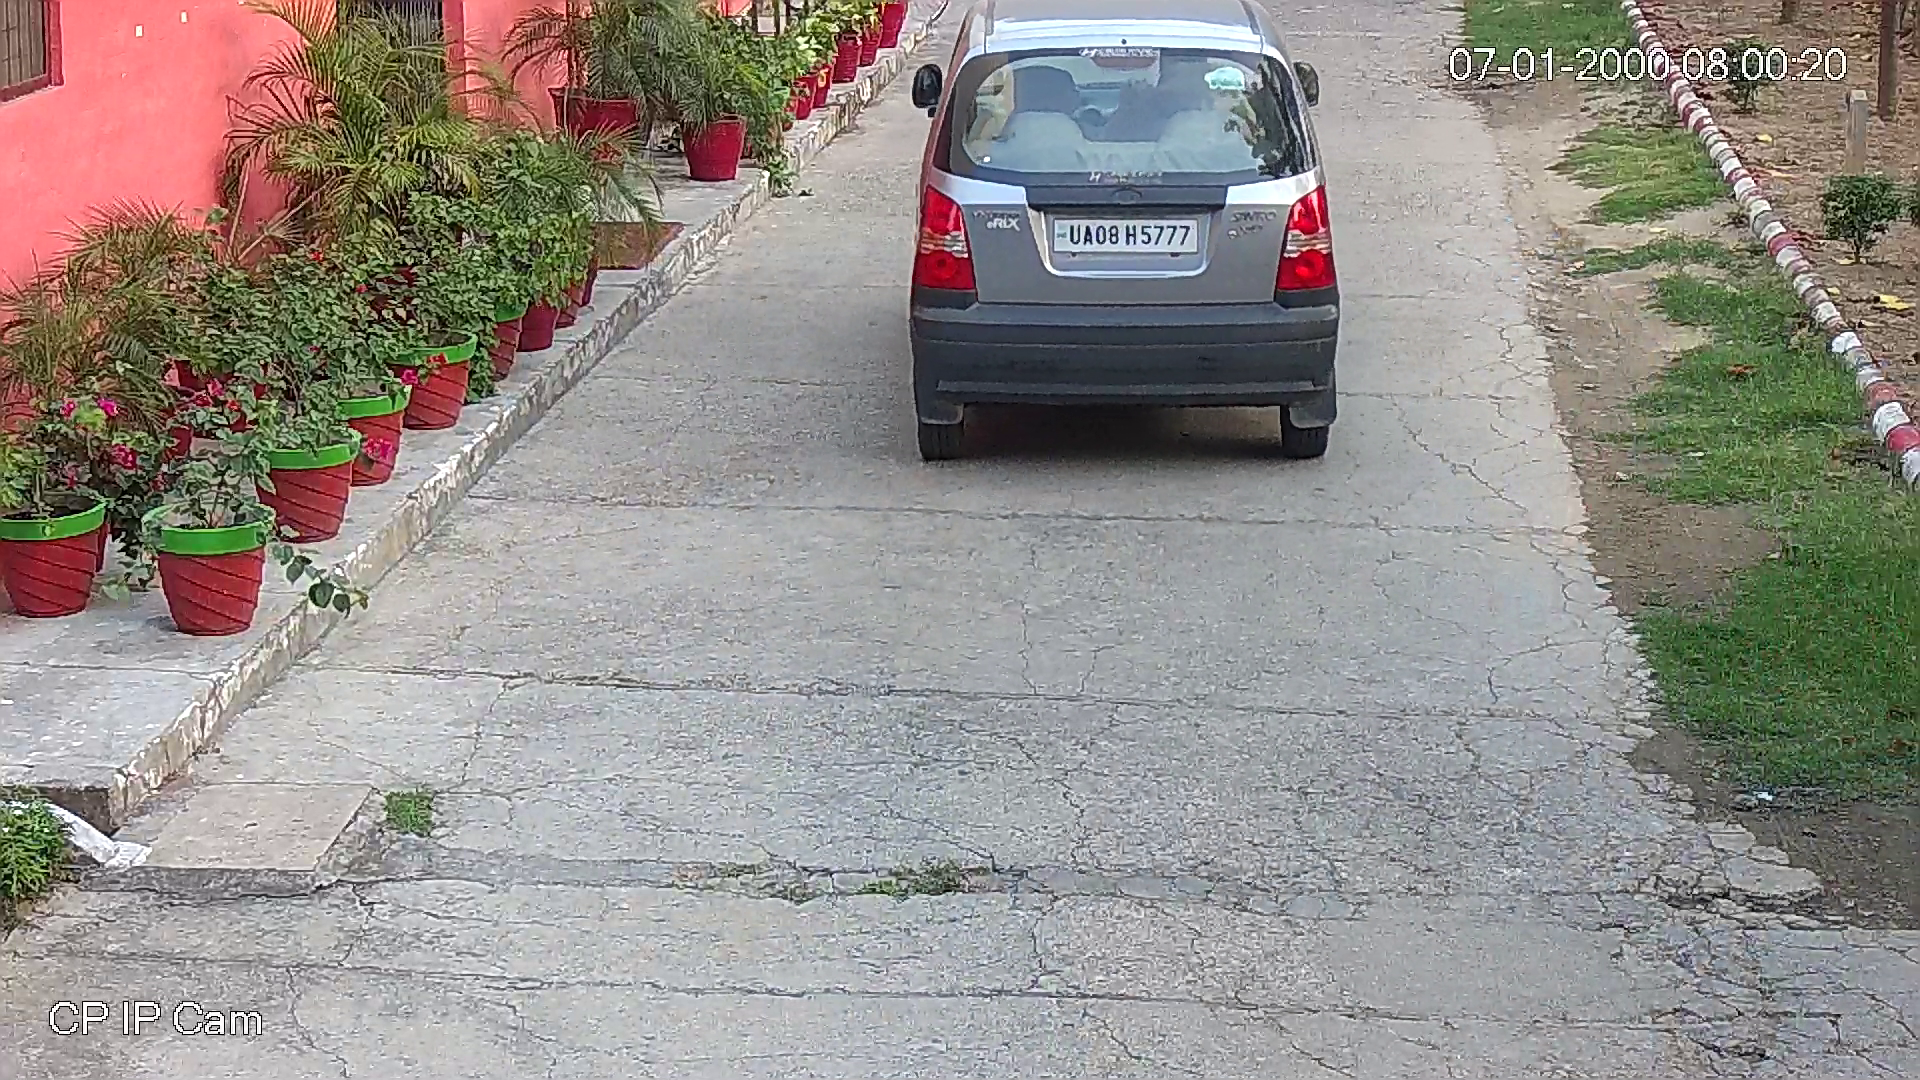plate: (1047, 210, 1198, 260)
